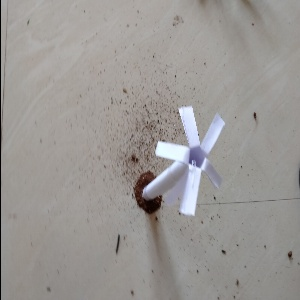weed: (141, 103, 226, 214)
